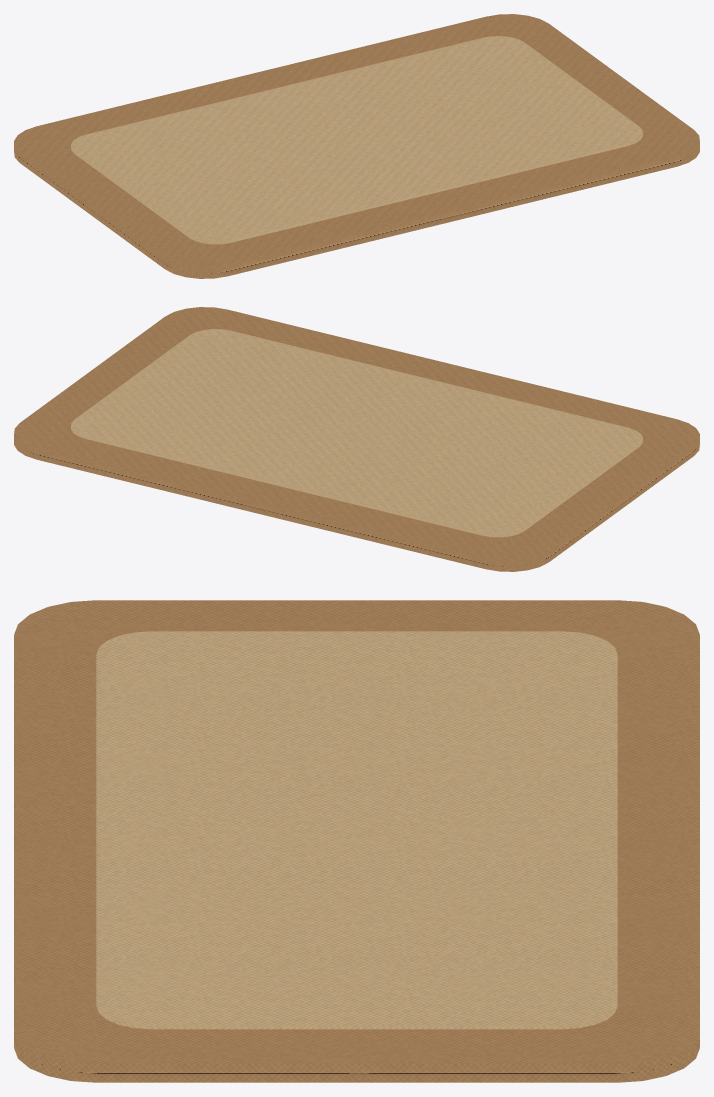
The model's file is prop_doormat.glb.
3 renders of one model, top to bottom at view 1: azimuth 30°, elevation 25°; view 2: azimuth 150°, elevation 25°; view 3: azimuth 270°, elevation 25°, orthographic. The views are drawn at different scales.
Visible parts, largest first — view 1: prop_doormat; view 2: prop_doormat; view 3: prop_doormat.
Boxes of the visible parts, x1,y1,x2,y2 form: prop_doormat: [14, 14, 699, 278]; prop_doormat: [14, 307, 699, 571]; prop_doormat: [14, 600, 699, 1082].
Bounding box in the file's own units: 1 × 0.0225 × 0.625.
Materials: 2 (2 with a texture image).
